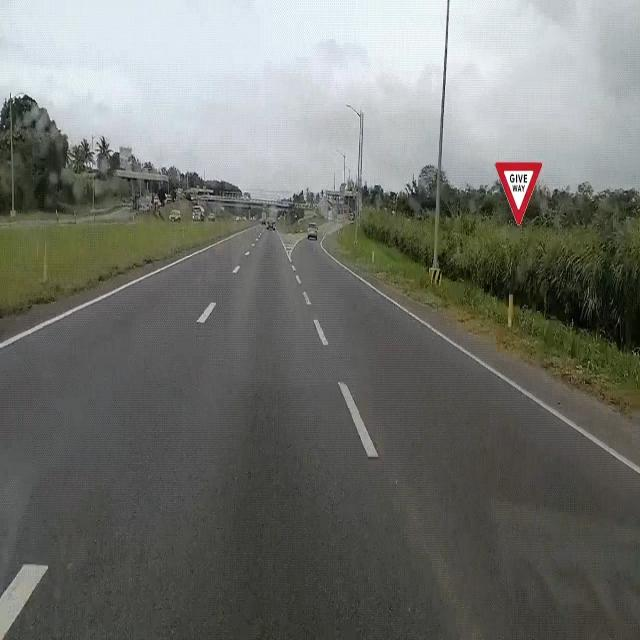Ceder-le-Passage: (492, 156, 544, 232)
